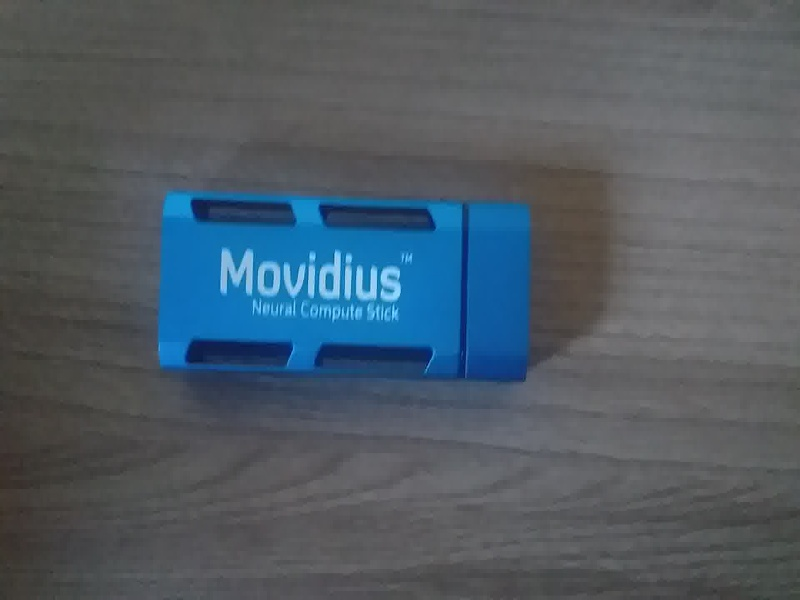movidius: (149, 172, 553, 394)
